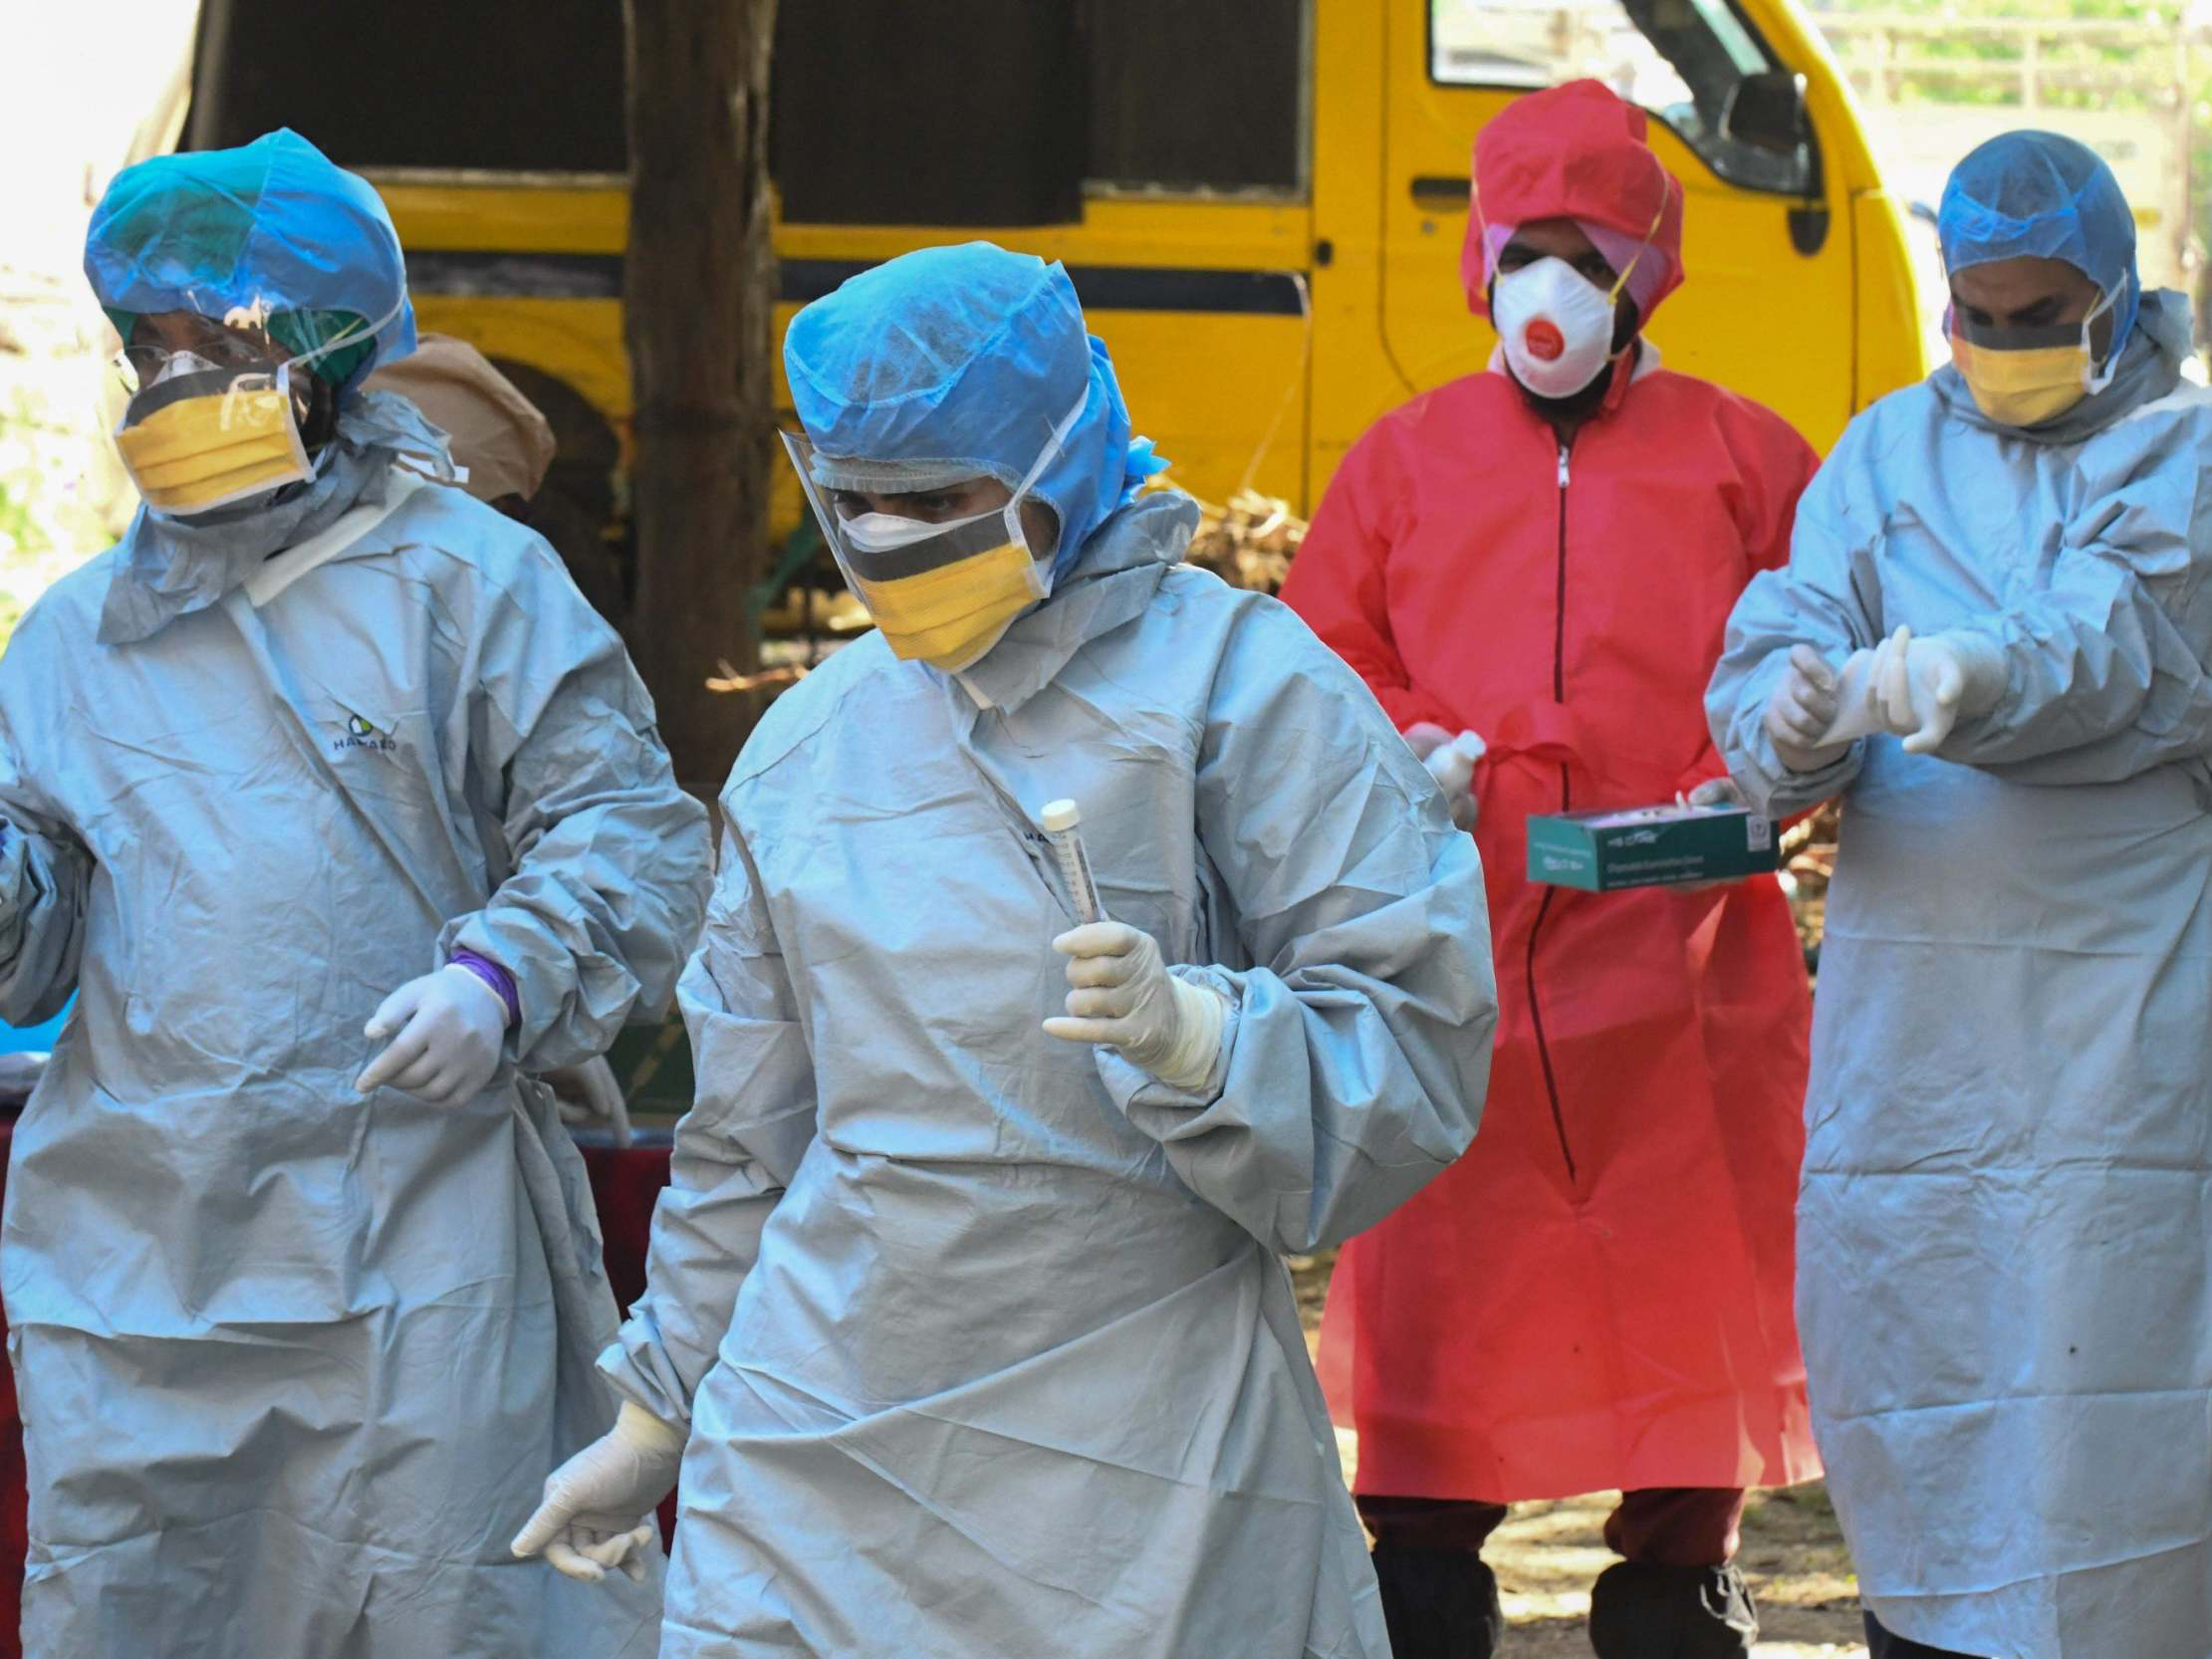Coverall: (678, 240, 1432, 1659), (1, 140, 648, 1659), (1293, 73, 1827, 1505), (1782, 113, 2212, 1644)
Gloves: (1038, 903, 1239, 1123), (504, 1384, 703, 1592), (331, 945, 549, 1114), (1858, 604, 2054, 776), (1721, 627, 1862, 773)
with_mask: (821, 471, 1044, 680), (113, 325, 323, 513), (1948, 285, 2100, 424), (1491, 244, 1624, 396)
